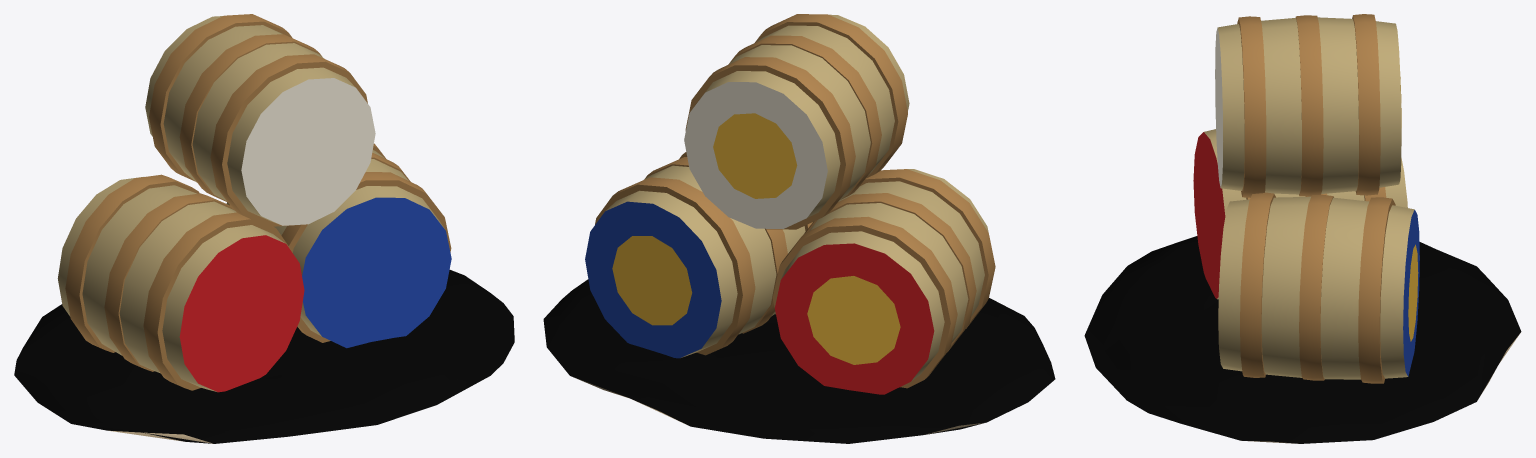
The model's file is TaruStack.fbx.
The picture shows the model from 3 angles, left to right: view 1: azimuth 30°, elevation 25°; view 2: azimuth 150°, elevation 25°; view 3: azimuth 270°, elevation 25°; orthographic projection.
Visible parts, largest first — view 1: TaruStack; view 2: TaruStack; view 3: TaruStack.
Boxes of the visible parts, x1,y1,x2,y2 form: TaruStack: (14,14,514,443); TaruStack: (543,14,1055,443); TaruStack: (1084,14,1521,443).
Size of the model in its own units: 1.47 by 0.9594 by 1.22.
Materials: 1 (1 with a texture image).
